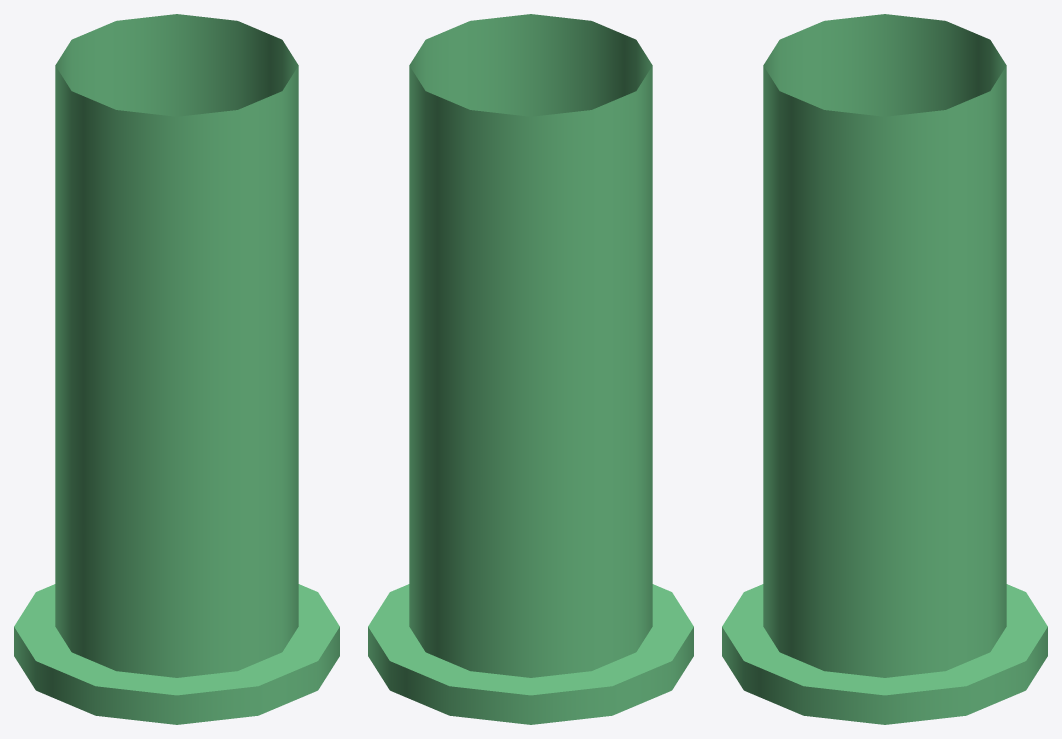
Rendered from Pipe_Basic_2Way.fbx.
3 renders of one model, left to right at view 1: azimuth 30°, elevation 25°; view 2: azimuth 150°, elevation 25°; view 3: azimuth 270°, elevation 25°, orthographic.
Parts seen in each view (by area): view 1: Pipe_Basic_2Way; view 2: Pipe_Basic_2Way; view 3: Pipe_Basic_2Way.
Boxes of the visible parts, x1,y1,x2,y2 form: Pipe_Basic_2Way: (14, 14, 339, 724); Pipe_Basic_2Way: (368, 14, 693, 724); Pipe_Basic_2Way: (722, 14, 1047, 724).
Size of the model in its own units: 75 by 150 by 75.
